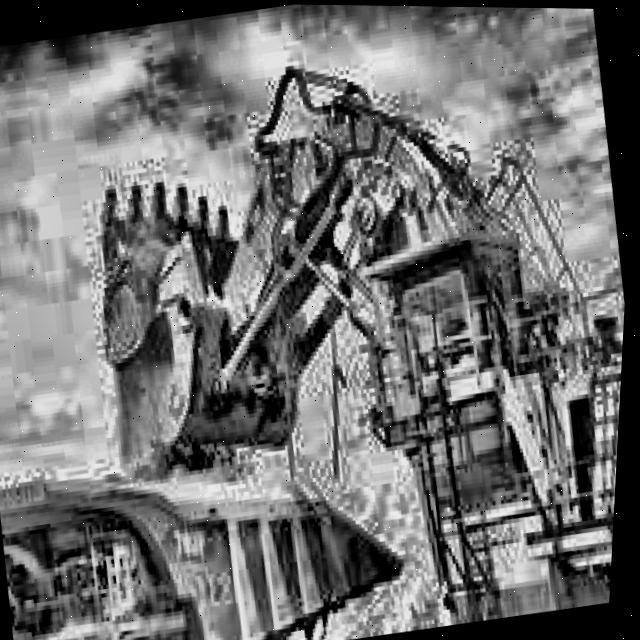dump_truck: (0, 414, 418, 640)
